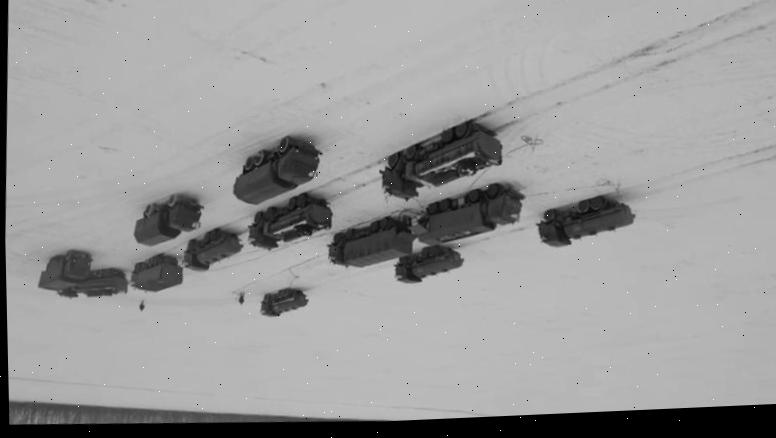person: (238, 290, 245, 304), (138, 298, 144, 311)
truck: (376, 114, 505, 205), (406, 178, 526, 249), (231, 131, 323, 208), (533, 191, 636, 250), (245, 189, 333, 253), (324, 212, 415, 270), (131, 190, 206, 248), (393, 242, 464, 286), (180, 225, 243, 273), (37, 248, 94, 292), (57, 265, 128, 300), (130, 250, 184, 293), (258, 284, 309, 318)
